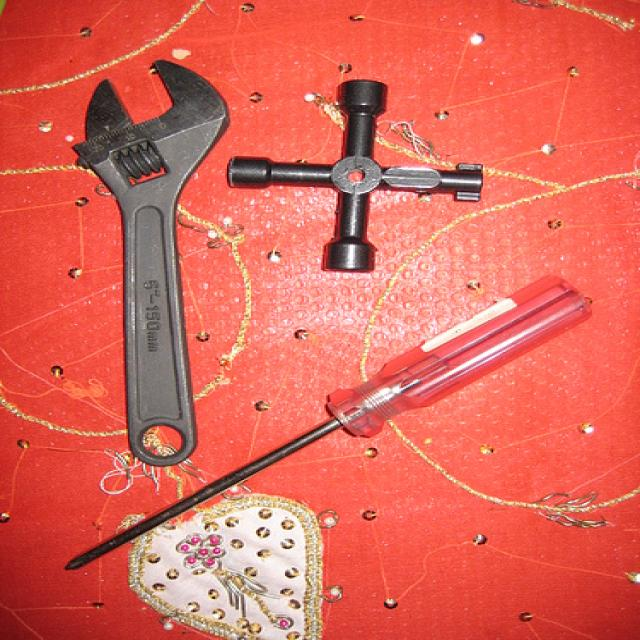wrench: (72, 48, 236, 501)
